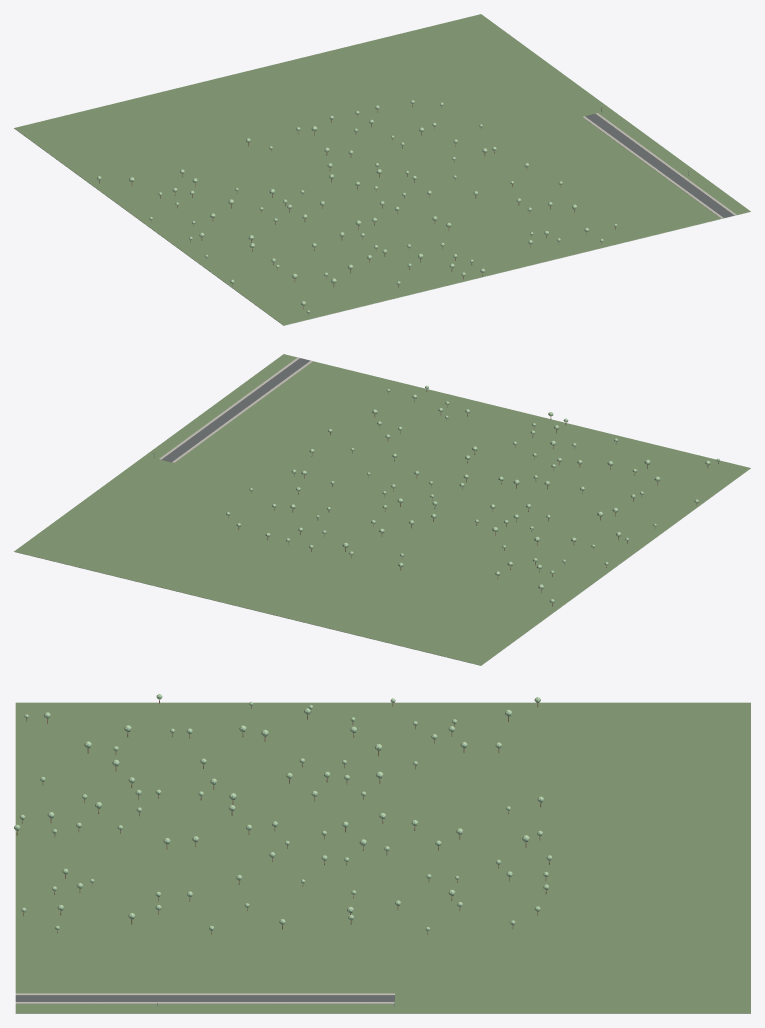
The model's file is chunk_5_0_high.glb.
3 renders of one model, top to bottom at view 1: azimuth 30°, elevation 25°; view 2: azimuth 150°, elevation 25°; view 3: azimuth 270°, elevation 25°, orthographic. The views are drawn at different scales.
Visible parts, largest first — view 1: city_forest_floor, city_foliage, city_world_asphalt, city_world_sidewalk, city_grass, city_foliage_dark; view 2: city_forest_floor, city_foliage, city_world_asphalt, city_world_sidewalk, city_grass, city_foliage_dark; view 3: city_forest_floor, city_foliage, city_world_asphalt, city_world_sidewalk, city_foliage_dark, city_curb, city_grass, city_bark.
Boxes of the visible parts, left/top/right/bottom form: city_forest_floor: left=14, top=14, right=750, bottom=325; city_foliage: left=97, top=100, right=617, bottom=313; city_world_asphalt: left=585, top=113, right=733, bottom=217; city_world_sidewalk: left=582, top=113, right=736, bottom=218; city_grass: left=14, top=128, right=750, bottom=325; city_foliage_dark: left=97, top=101, right=614, bottom=312; city_forest_floor: left=14, top=354, right=750, bottom=665; city_foliage: left=226, top=385, right=719, bottom=603; city_world_asphalt: left=161, top=358, right=310, bottom=462; city_world_sidewalk: left=159, top=357, right=313, bottom=462; city_grass: left=14, top=468, right=750, bottom=665; city_foliage_dark: left=226, top=386, right=719, bottom=602; city_forest_floor: left=15, top=702, right=750, bottom=1013; city_foliage: left=14, top=694, right=552, bottom=930; city_world_asphalt: left=15, top=995, right=394, bottom=1001; city_world_sidewalk: left=15, top=993, right=394, bottom=1003; city_foliage_dark: left=15, top=696, right=551, bottom=930; city_curb: left=16, top=993, right=394, bottom=1003; city_grass: left=15, top=1013, right=750, bottom=1013; city_bark: left=16, top=700, right=549, bottom=934.
Size of the model in its own units: 513 by 9.81 by 513.
